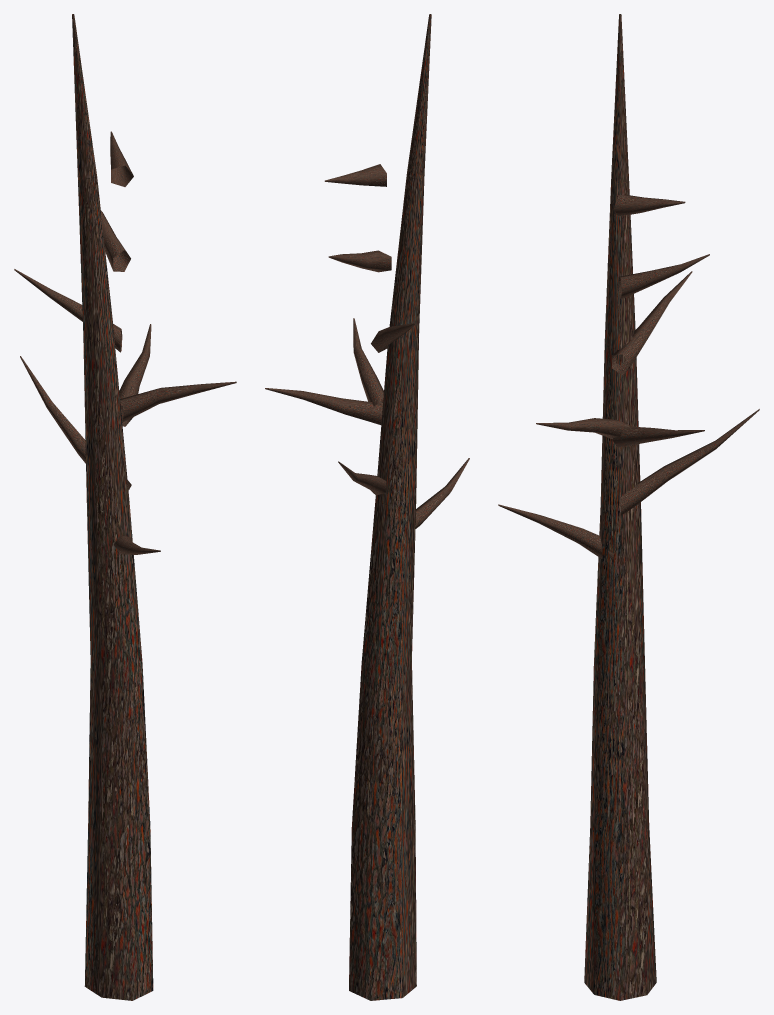
File: dead_1.glb
3 renders of one model, left to right at view 1: azimuth 30°, elevation 25°; view 2: azimuth 150°, elevation 25°; view 3: azimuth 270°, elevation 25°, orthographic. The views are drawn at different scales.
Visible parts, largest first — view 1: dead_1; view 2: dead_1; view 3: dead_1.
Boxes of the visible parts, left/top/right/bottom form: dead_1: left=14, top=14, right=236, bottom=1000; dead_1: left=265, top=14, right=469, bottom=1000; dead_1: left=498, top=14, right=759, bottom=1000.
Size of the model in its own units: 1.3 by 8.5 by 2.12.
1 material, 1 textured.
